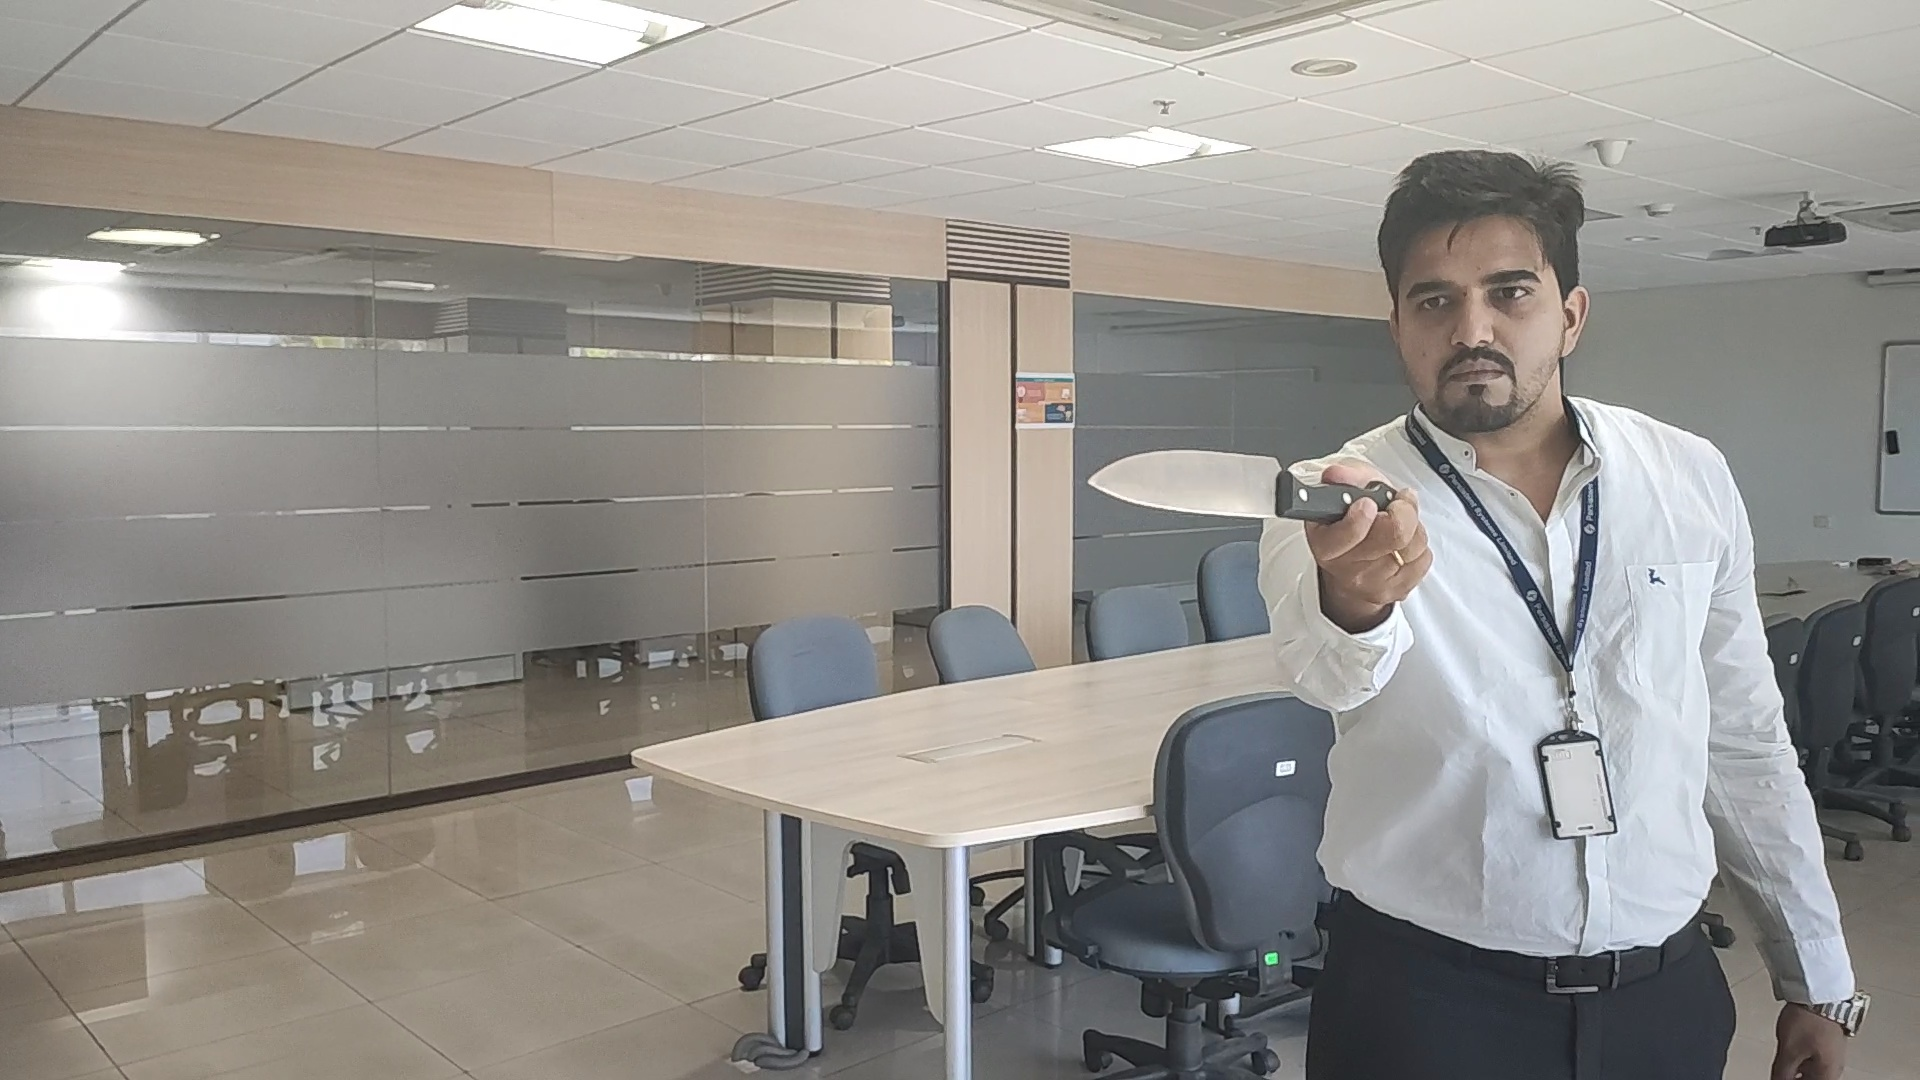knife: (1083, 446, 1354, 520)
